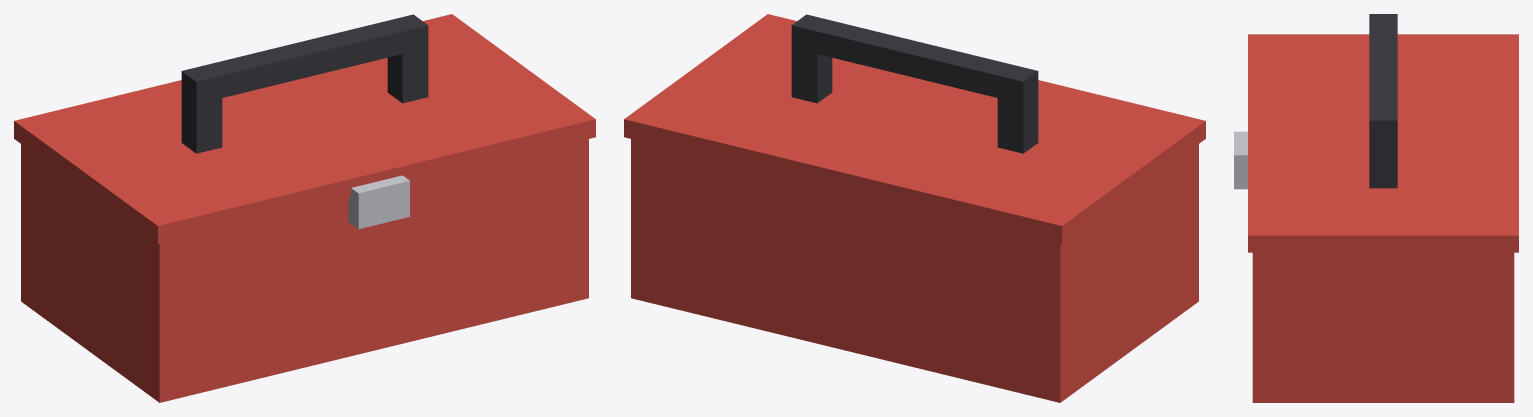
The model's file is toolbox.glb.
The picture shows the model from 3 angles, left to right: view 1: azimuth 30°, elevation 25°; view 2: azimuth 150°, elevation 25°; view 3: azimuth 270°, elevation 25°; orthographic projection. The views are drawn at different scales.
Visible parts, largest first — view 1: toolbox; view 2: toolbox; view 3: toolbox.
Part boxes in pixels (box(x1,y1,x2,y2)): toolbox: box(14, 14, 595, 402); toolbox: box(624, 14, 1205, 402); toolbox: box(1234, 14, 1518, 402).
Size of the model in its own units: 0.51 by 0.28 by 0.305.
